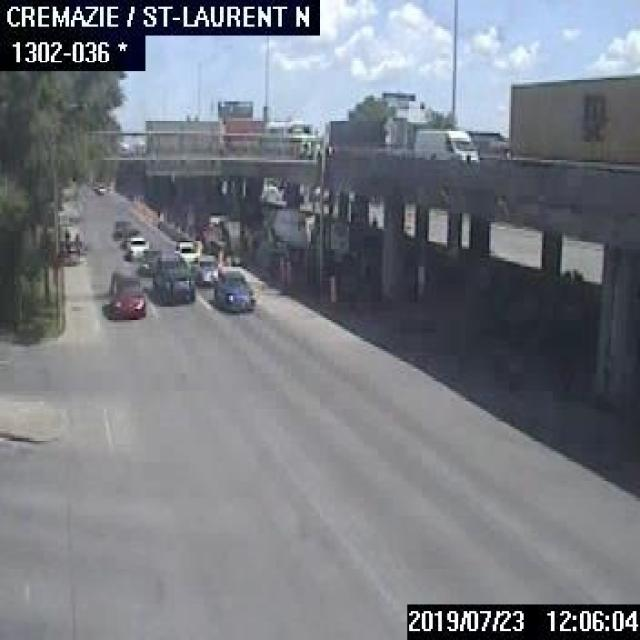pedestrian: (61, 228, 70, 260), (71, 232, 80, 262)
vehicle: (504, 74, 638, 164), (149, 250, 196, 306), (411, 124, 476, 160), (108, 266, 148, 318), (212, 269, 253, 309), (192, 248, 222, 285), (126, 232, 149, 258), (173, 238, 197, 262), (119, 226, 138, 244), (111, 218, 130, 236)
